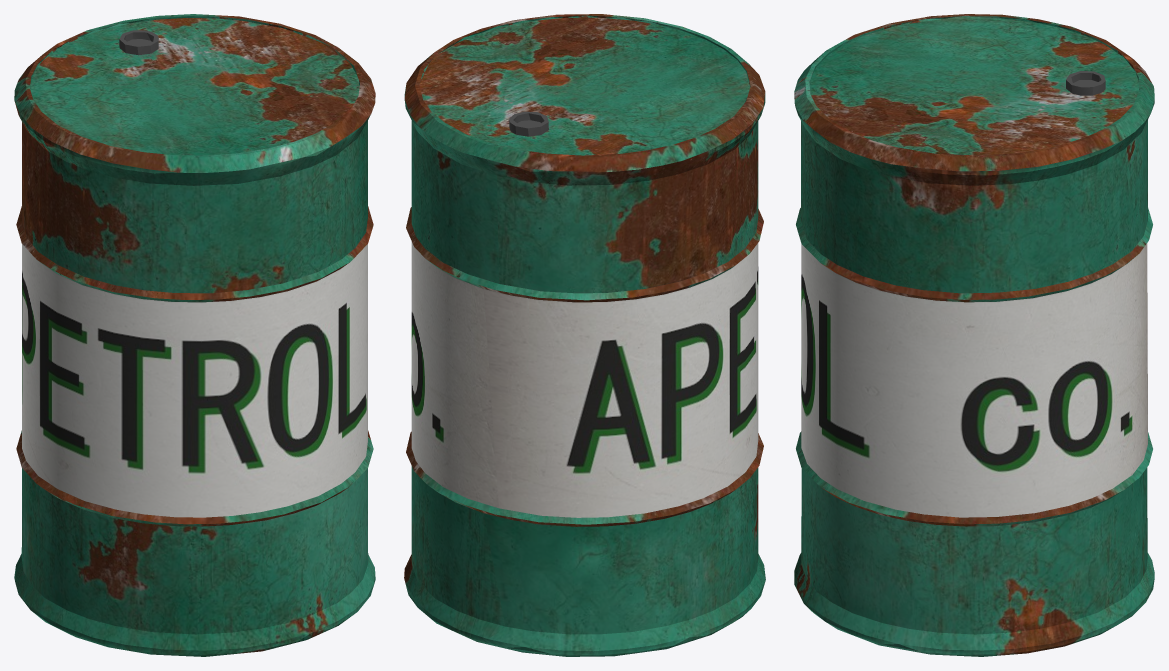
The model's file is A_ApetrolBarrel_UE.fbx.
The picture shows the model from 3 angles, left to right: view 1: azimuth 30°, elevation 25°; view 2: azimuth 150°, elevation 25°; view 3: azimuth 270°, elevation 25°; orthographic projection.
Visible parts, largest first — view 1: A_Barel10.005; view 2: A_Barel10.005; view 3: A_Barel10.005.
Part boxes in pixels (left/top/right/bottom): A_Barel10.005: left=14, top=14, right=375, bottom=656; A_Barel10.005: left=404, top=14, right=765, bottom=656; A_Barel10.005: left=794, top=14, right=1154, bottom=656.
Size of the model in its own units: 72.88 by 72.87 by 112.
